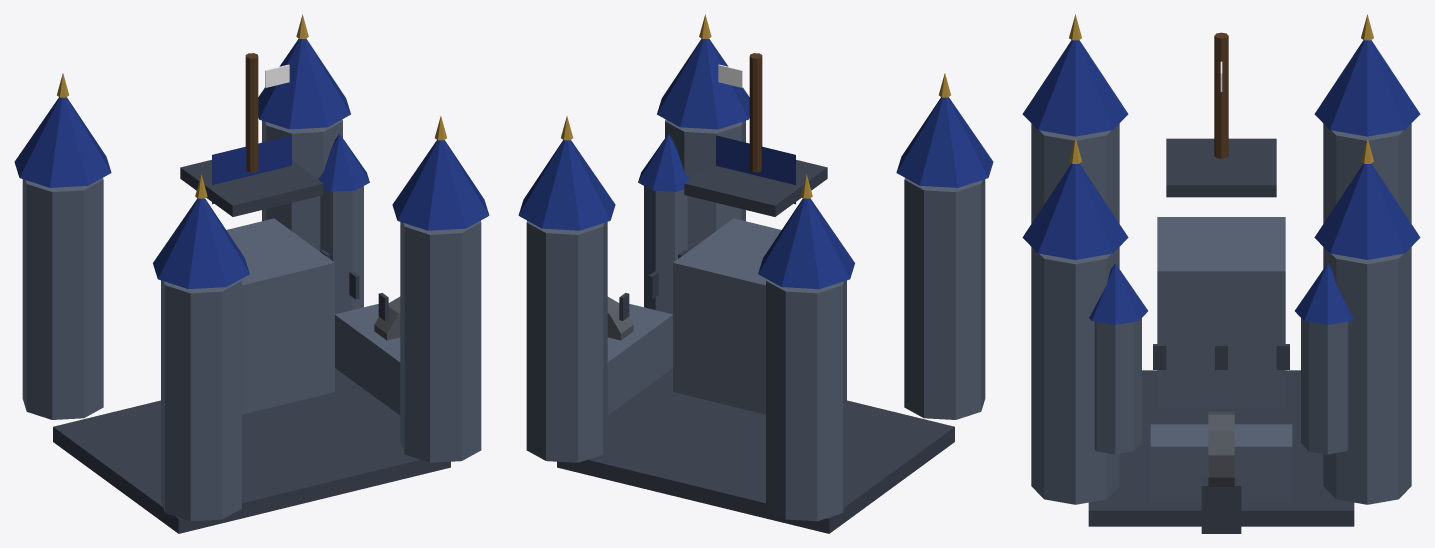
Rendered from vanguard_castle.glb.
3 renders of one model, left to right at view 1: azimuth 30°, elevation 25°; view 2: azimuth 150°, elevation 25°; view 3: azimuth 270°, elevation 25°, orthographic. The views are drawn at different scales.
Visible parts, largest first — view 1: vanguard_castle; view 2: vanguard_castle; view 3: vanguard_castle.
Boxes of the visible parts, x1=… form: vanguard_castle: x1=14, y1=14, x2=489, y2=533; vanguard_castle: x1=518, y1=14, x2=993, y2=533; vanguard_castle: x1=1022, y1=14, x2=1420, y2=533.
Bounding box in the file's own units: 97.56 × 105 × 90.
